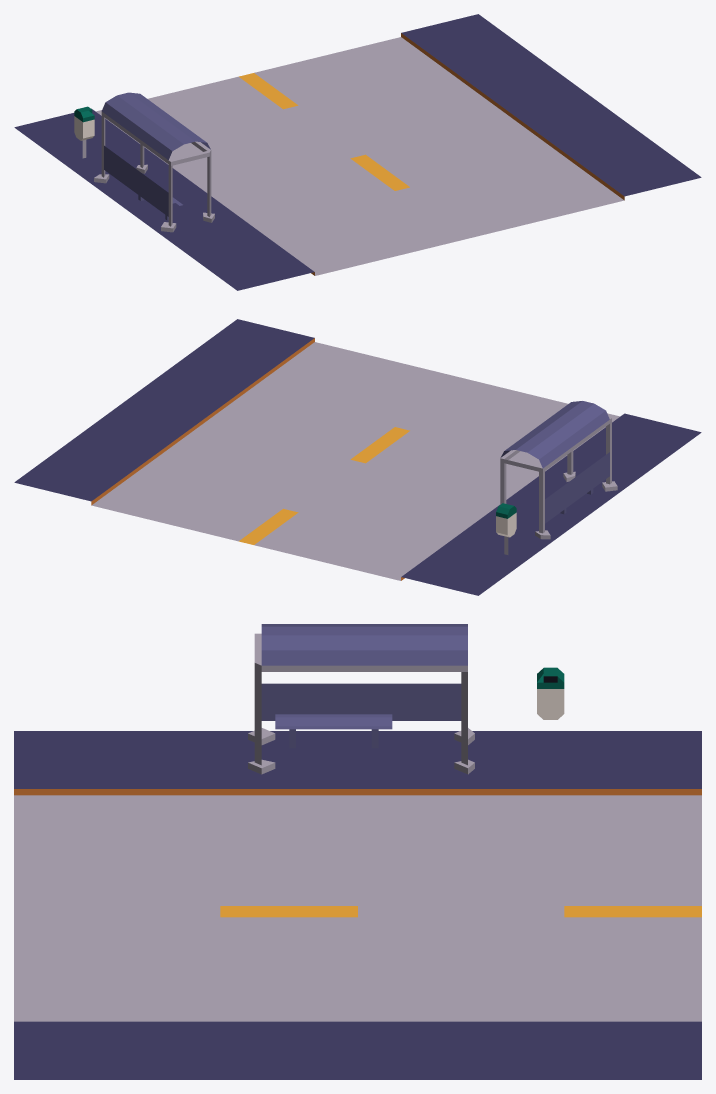
Rendered from road2_avant_maisons.obj.
The picture shows the model from 3 angles, top to bottom: view 1: azimuth 30°, elevation 25°; view 2: azimuth 150°, elevation 25°; view 3: azimuth 270°, elevation 25°; orthographic projection. The views are drawn at different scales.
Parts seen in each view (by area): view 1: ROAD2; view 2: ROAD2; view 3: ROAD2.
Part boxes in pixels (x1,y1,x2,y2): ROAD2: [14, 14, 701, 290]; ROAD2: [14, 319, 701, 595]; ROAD2: [14, 624, 701, 1079].
Bounding box in the file's own units: 12 × 2.1 × 10.
